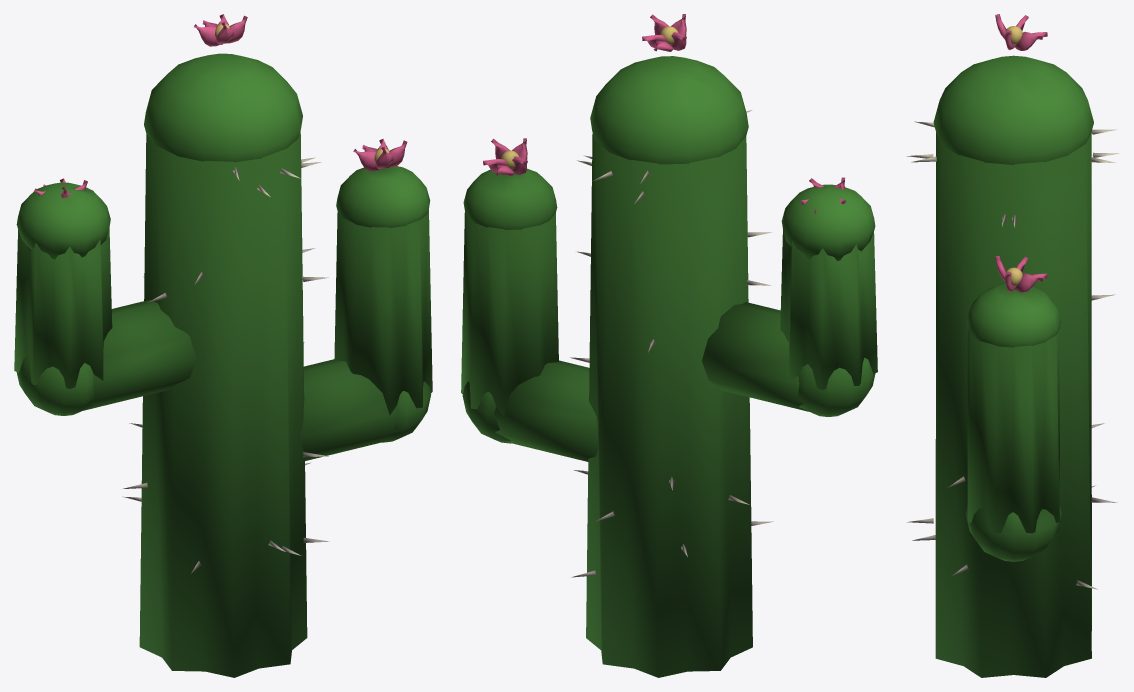
The model's file is cactus.glb.
The picture shows the model from 3 angles, left to right: view 1: azimuth 30°, elevation 25°; view 2: azimuth 150°, elevation 25°; view 3: azimuth 270°, elevation 25°; orthographic projection.
Visible parts, largest first — view 1: cactus; view 2: cactus; view 3: cactus.
Boxes of the visible parts, x1,y1,x2,y2 form: cactus: (14, 14, 432, 677); cactus: (461, 14, 877, 677); cactus: (906, 14, 1119, 677).
Bounding box in the file's own units: 1.21 × 1.8 × 0.5547.
